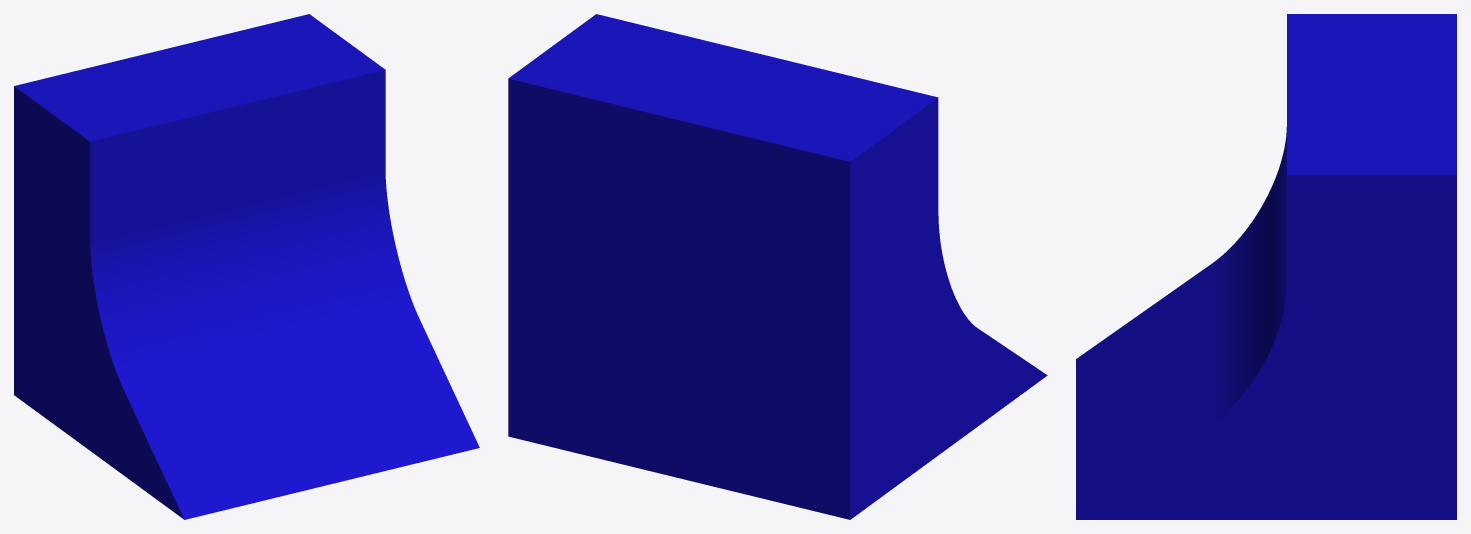
The model's file is l-blue.obj.
3 renders of one model, left to right at view 1: azimuth 30°, elevation 25°; view 2: azimuth 150°, elevation 25°; view 3: azimuth 270°, elevation 25°, orthographic. The views are drawn at different scales.
Visible parts, largest first — view 1: Cube; view 2: Cube; view 3: Cube.
Part boxes in pixels (box(x1,y1,x2,y2)): Cube: box(14, 14, 479, 519); Cube: box(508, 14, 1047, 519); Cube: box(1076, 14, 1456, 519).
Bounding box in the file's own units: 2 × 2 × 2.
